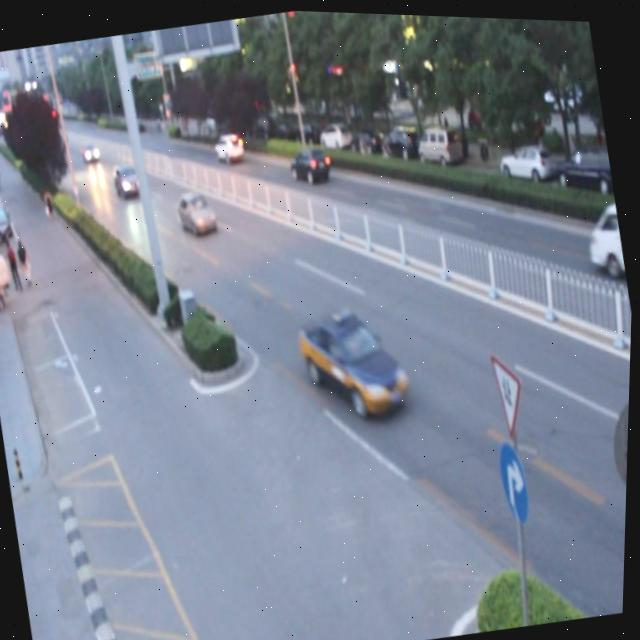car: (296, 294, 416, 428), (175, 186, 221, 239), (285, 139, 334, 187), (211, 125, 247, 166), (112, 158, 144, 199)
truck: (578, 188, 632, 291)
